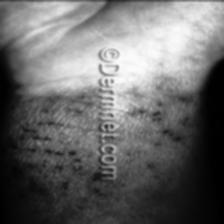Non-Cancerous Skin Condition: (5, 90, 92, 198)
